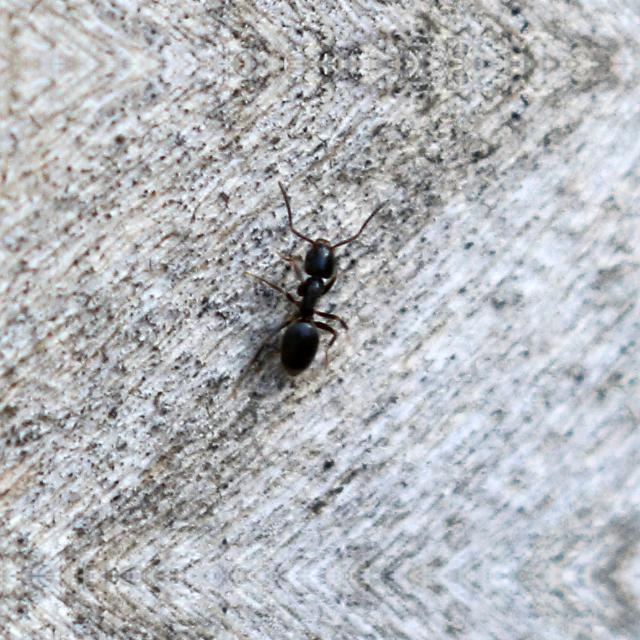Tapinoma: (241, 202, 381, 388)
